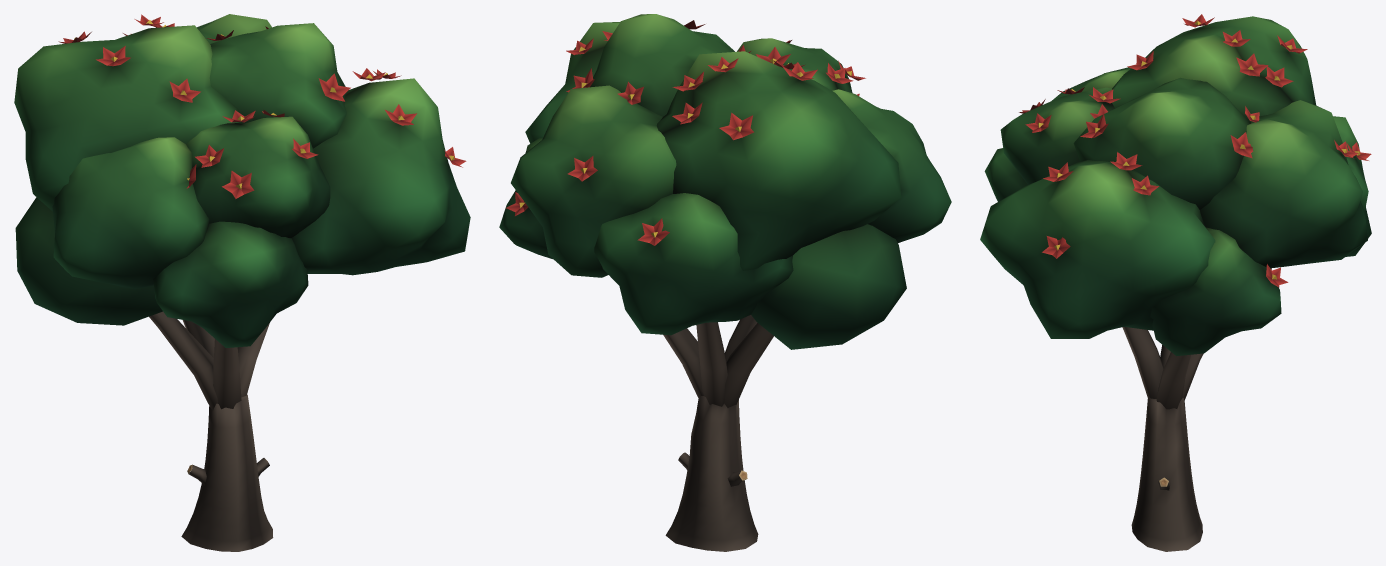
Rendered from tree-camellia-v3.glb.
3 renders of one model, left to right at view 1: azimuth 30°, elevation 25°; view 2: azimuth 150°, elevation 25°; view 3: azimuth 270°, elevation 25°, orthographic. The views are drawn at different scales.
Visible parts, largest first — view 1: 1_leaves, 0_trunk; view 2: 1_leaves, 0_trunk; view 3: 1_leaves, 0_trunk.
Part boxes in pixels (bbox=[...]): 1_leaves: bbox=[14, 14, 470, 347]; 0_trunk: bbox=[149, 311, 273, 551]; 1_leaves: bbox=[499, 14, 951, 349]; 0_trunk: bbox=[663, 315, 773, 551]; 1_leaves: bbox=[980, 14, 1371, 356]; 0_trunk: bbox=[1122, 327, 1203, 551].
Size of the model in its own units: 3.01 by 3.81 by 2.84.
